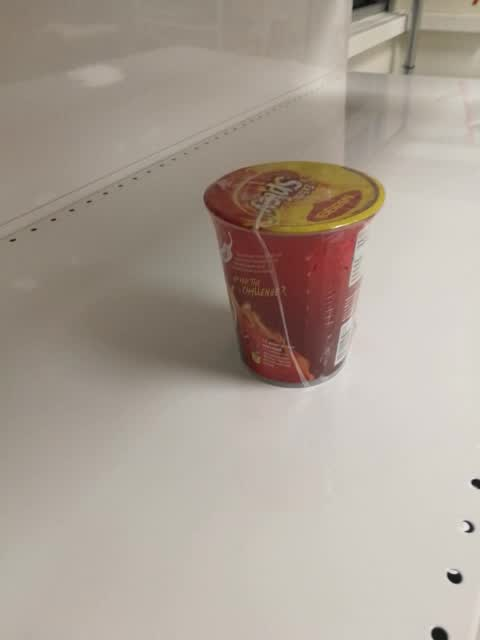maggi: (201, 159, 387, 390)
